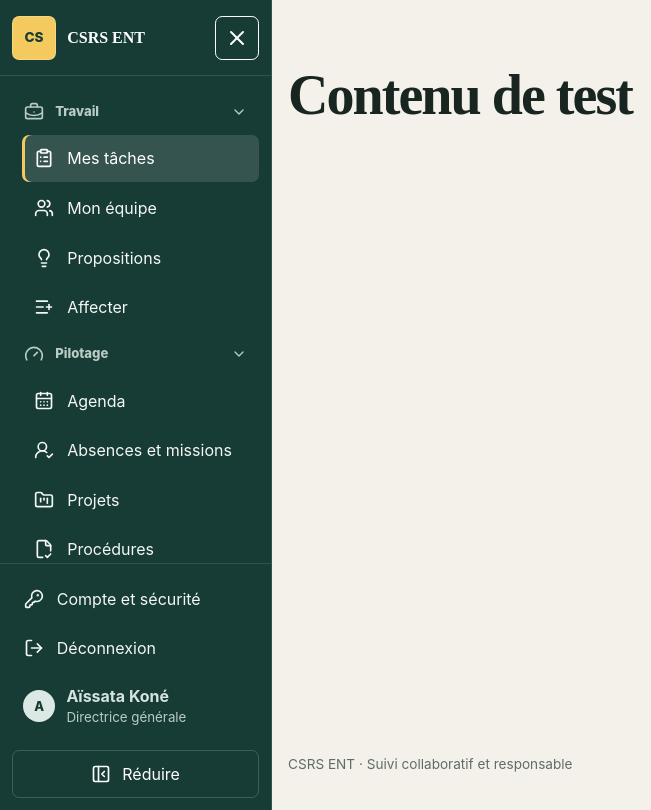
Scenario: réduit la barre latérale et mémorise le choix
The image size is (651, 810).
Expected: the heading "Contenu de test" is shown, [288, 64, 632, 126]
Click the button with aria-label "Réduire le menu".
click(136, 774)  # box [12, 750, 259, 798]
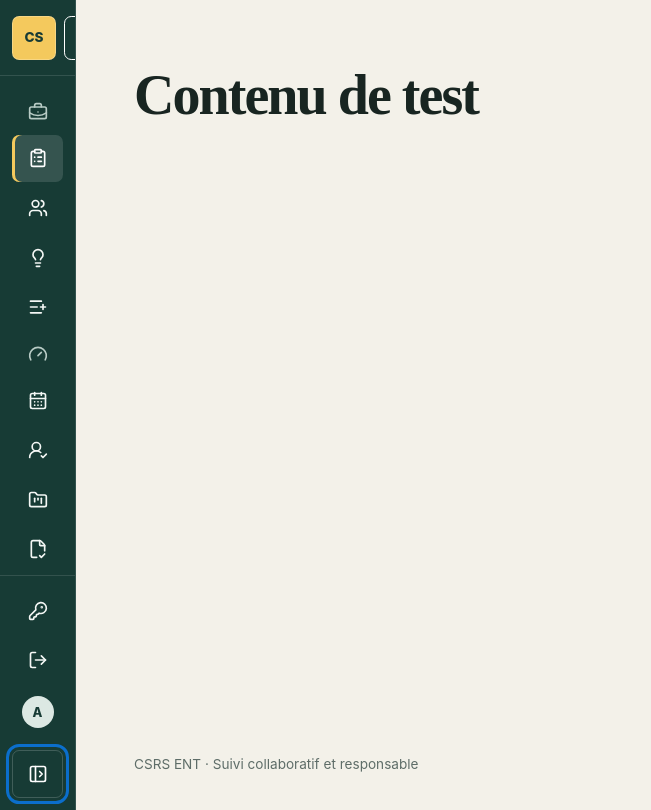
Now the button named "Déployer le menu" is shown, box [12, 750, 63, 798]
